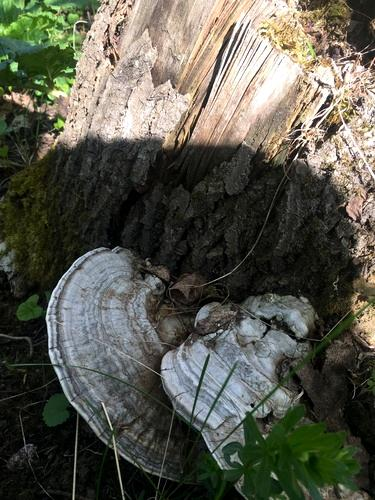Ganoderma - Fruit Body: (48, 244, 369, 500)
